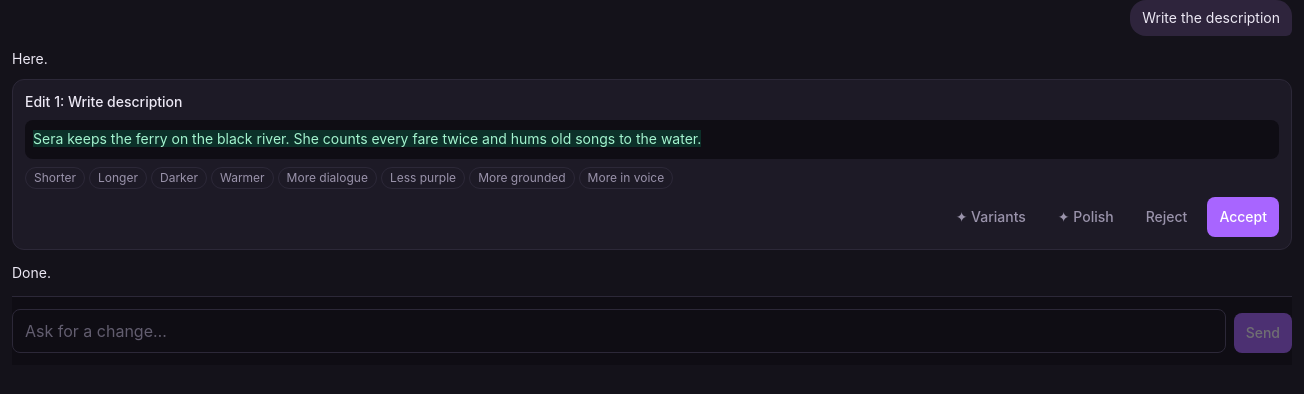
Test: learn from the user › revises a proposal with one tap on a feedback chip
Step 1. Click the button "Shorter" → (55,178), box [25,166,85,188]
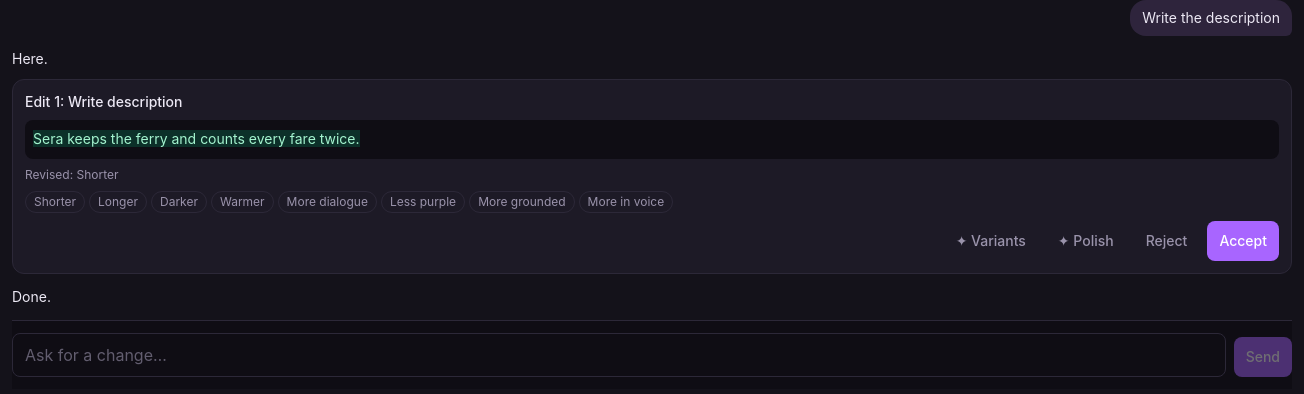
Expected: the text "Sera keeps the ferry and counts every fare twice." is shown, [33,130,360,147]
Expected: the text "Revised: Shorter" is shown, [25,166,118,182]
